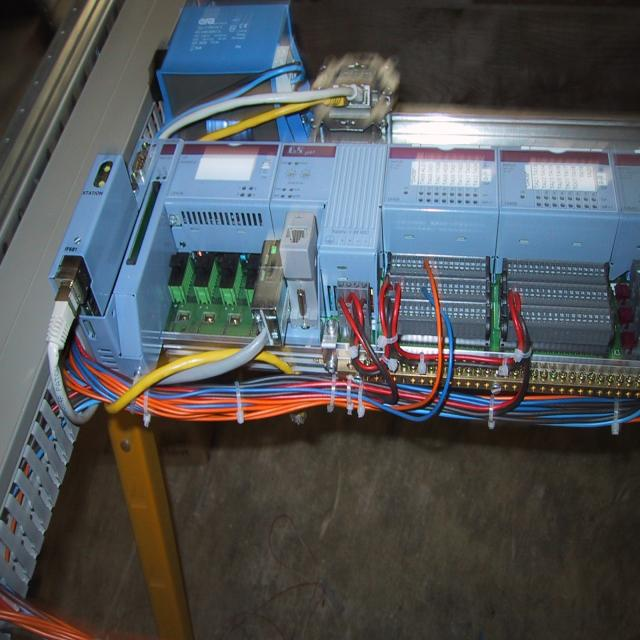SPS_System_Steuerungskomponente: (49, 136, 180, 316), (270, 143, 388, 249), (497, 146, 621, 217), (383, 146, 501, 216), (164, 139, 285, 203)
